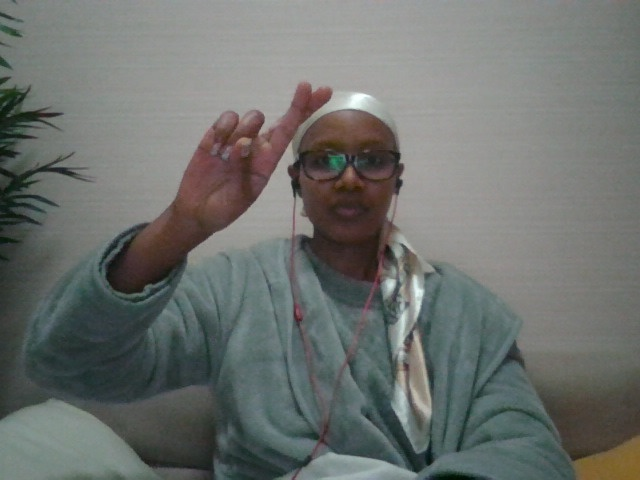goodluck: (170, 78, 349, 243)
